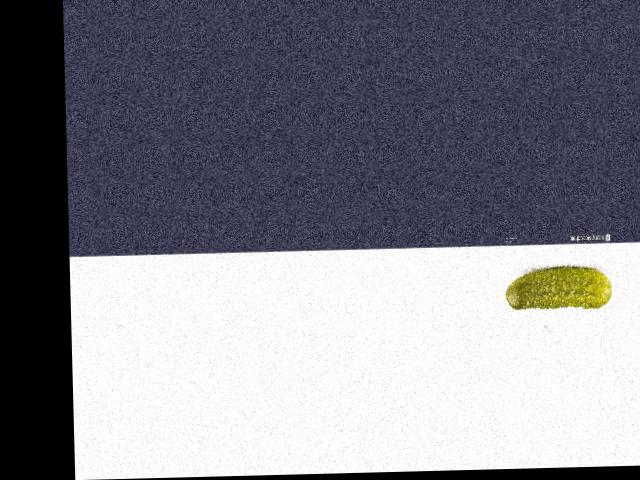cucumber: (503, 265, 611, 310)
